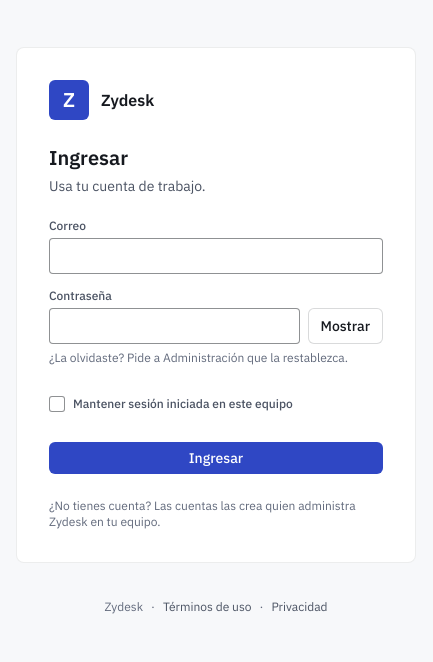
it: un error de red muestra "No se pudo conectar. Intenta de nuevo."
Step 1. Type "hikki@zydesk.local" into the field labelled "Correo" → (216, 256), box top-left (49, 238), bottom-right (383, 274)
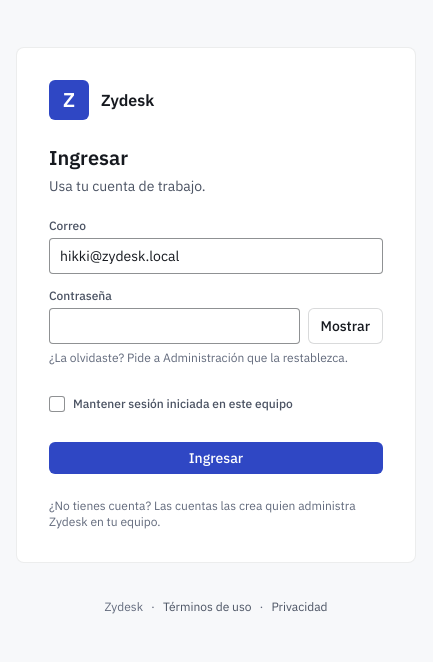
Step 2. Type "Clave.De.Prueba.1" into the password field labelled "Contraseña" → (174, 326), box top-left (49, 308), bottom-right (300, 344)
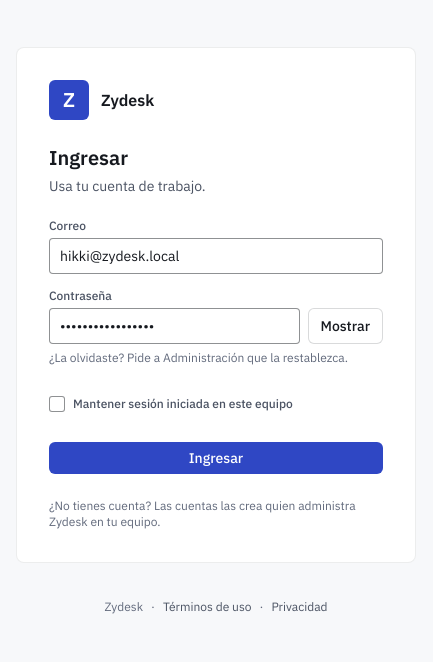
Step 3. Click the button "Ingresar" → (216, 458), box top-left (49, 442), bottom-right (383, 474)
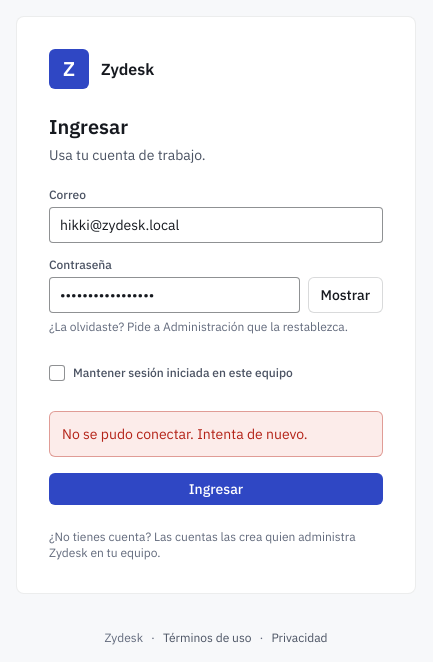
Expected: the message reads "No se pudo conectar. Intenta de nuevo.", top-left (62, 425), bottom-right (308, 443)
